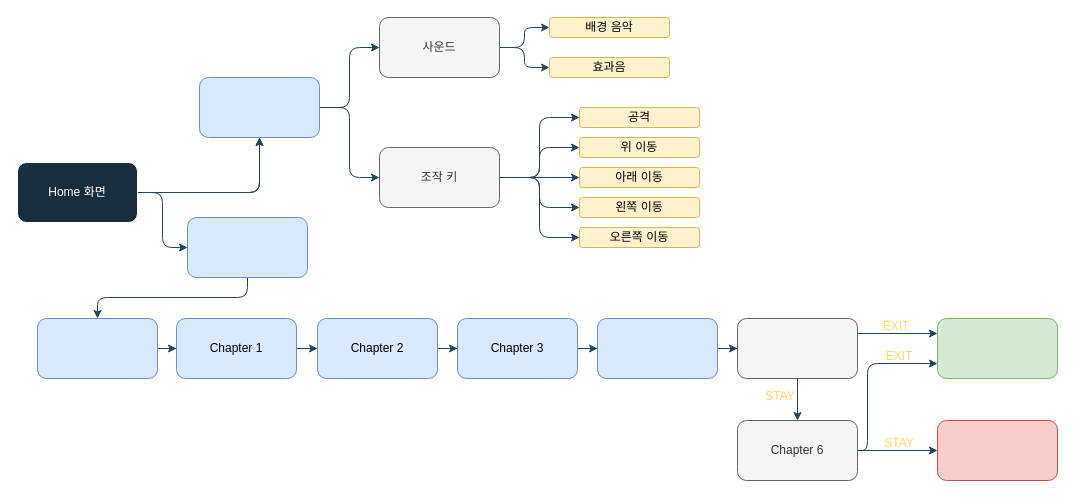
Image size: 1075x498. Some labels were removed from this diagram. The shapes that lost their labels are listed below. From the top down, each one's centre as x and y in pixels, then its label:
the point at 259,107: 설정
the point at 247,247: Play
the point at 97,348: 프롤로그
the point at 657,348: Chapter 4
the point at 797,348: Chapter 5
the point at 997,348: Happy Ending 에필로그
the point at 997,450: Bad Ending 에필로그
